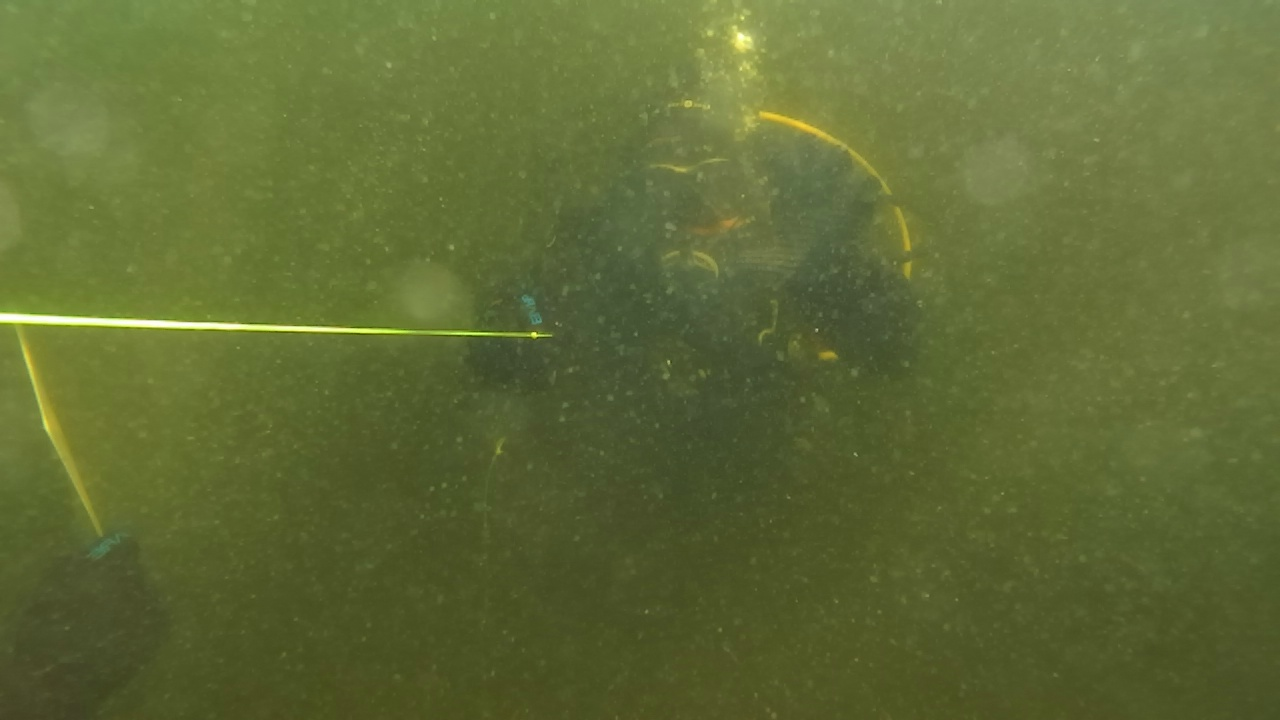Diver: (308, 30, 1042, 590)
